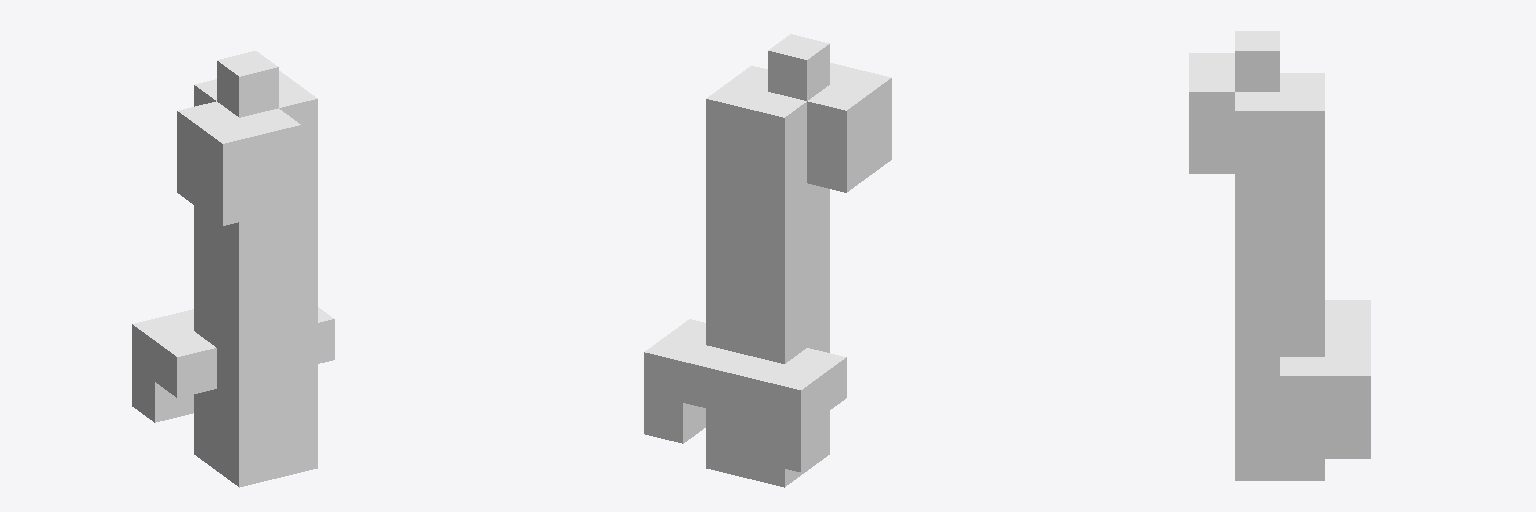
The model's file is Leg-9.obj.
The picture shows the model from 3 angles: view 1: azimuth 30°, elevation 25°; view 2: azimuth 150°, elevation 25°; view 3: azimuth 270°, elevation 25°; orthographic projection.
Parts seen in each view (by area): view 1: object 1; view 2: object 1; view 3: object 1.
Boxes of the visible parts, box(x1,y1,x2,y2) form: object 1: box(132, 51, 334, 487); object 1: box(644, 34, 891, 487); object 1: box(1189, 31, 1370, 480).
Size of the model in its own units: 0.4 by 1 by 0.4.